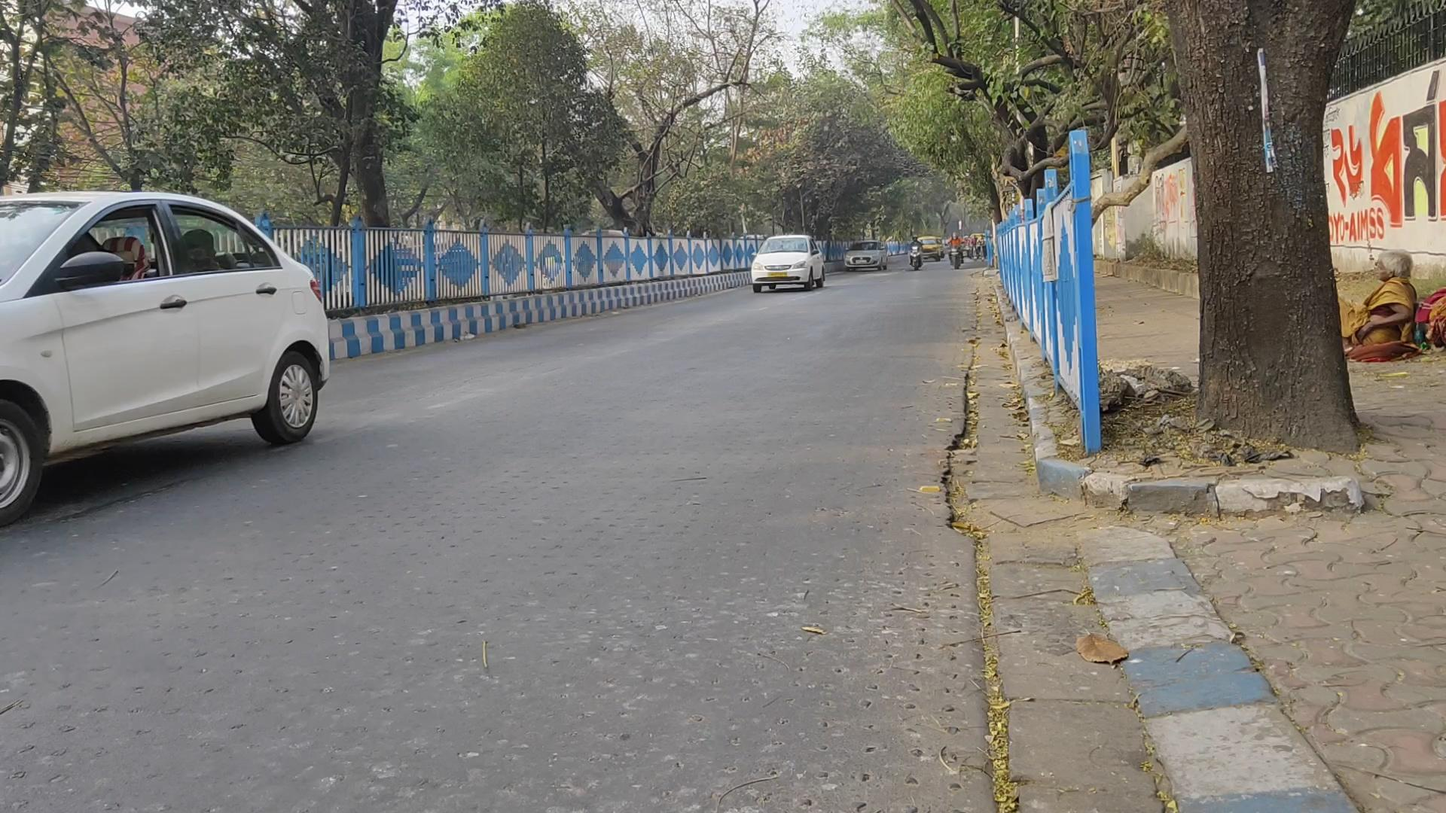bike: (945, 232, 966, 271), (908, 234, 924, 271)
car: (1, 190, 331, 528), (749, 233, 826, 294), (844, 239, 889, 274), (917, 236, 946, 262)
